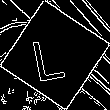L_N: (35, 27, 75, 83)
